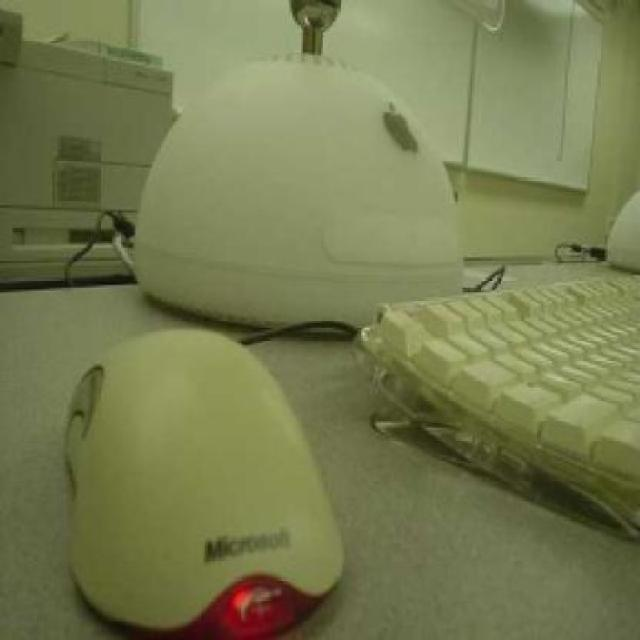mause: (22, 299, 393, 638)
